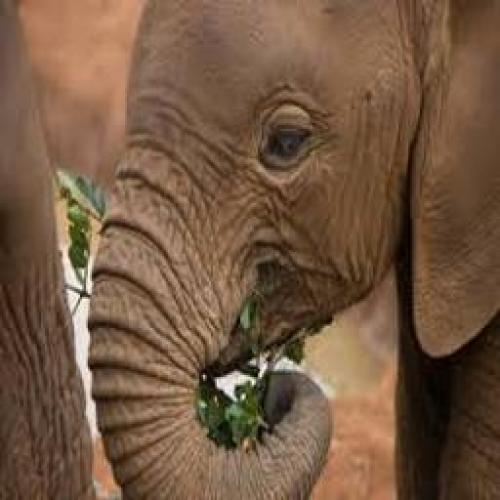african_elephant-endangered: (92, 2, 500, 500), (0, 0, 93, 500)
